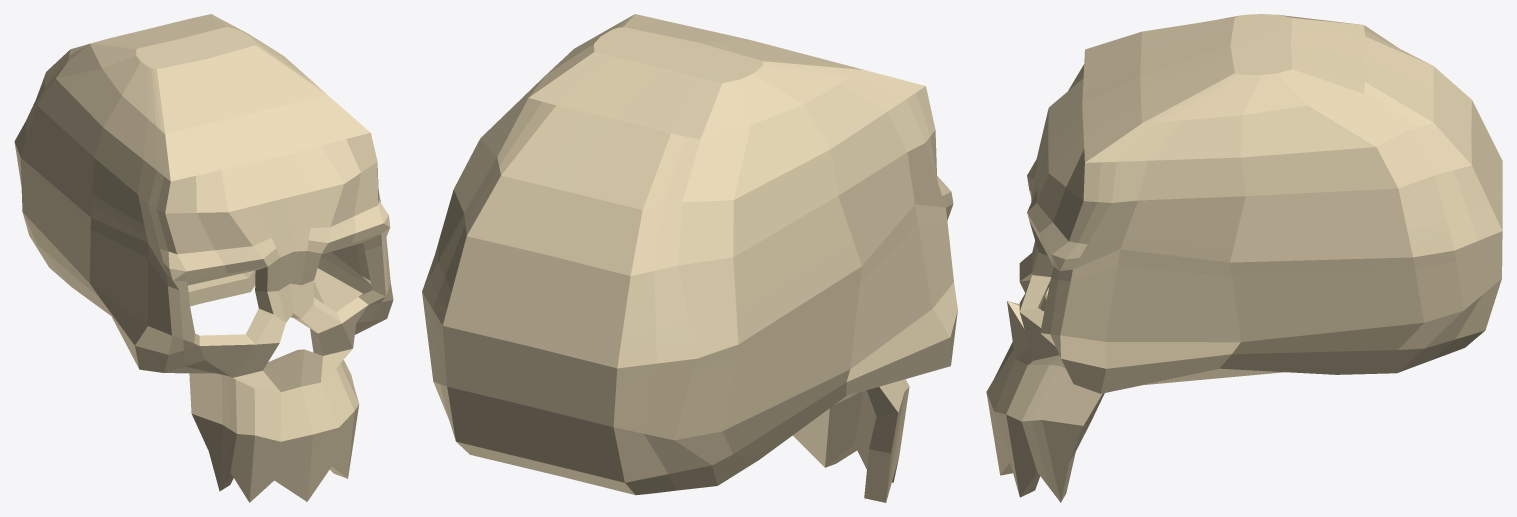
Rendered from skull.fbx.
3 views of the same model, side by side, from view 1: azimuth 30°, elevation 25°; view 2: azimuth 150°, elevation 25°; view 3: azimuth 270°, elevation 25° (orthographic). The views are drawn at different scales.
Parts seen in each view (by area): view 1: Cube.058; view 2: Cube.058; view 3: Cube.058.
Part boxes in pixels (<box>): Cube.058: <box>14,14,393,502</box>; Cube.058: <box>422,14,957,502</box>; Cube.058: <box>986,14,1502,502</box>.
Size of the model in its own units: 18.24 by 25.61 by 27.73.
